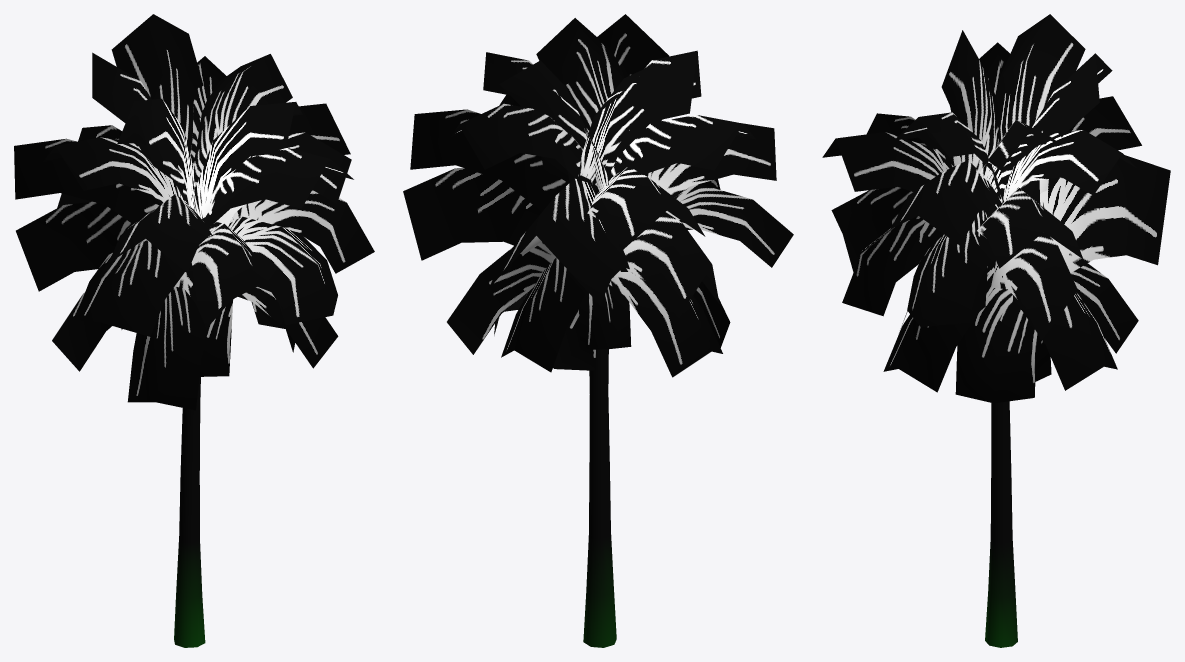
The model's file is P_DesertCoconutPalm02.obj.
3 views of the same model, side by side, from view 1: azimuth 30°, elevation 25°; view 2: azimuth 150°, elevation 25°; view 3: azimuth 270°, elevation 25° (orthographic). The views are drawn at different scales.
Bounding box in the file's own units: 6.12 × 11.46 × 6.1.
